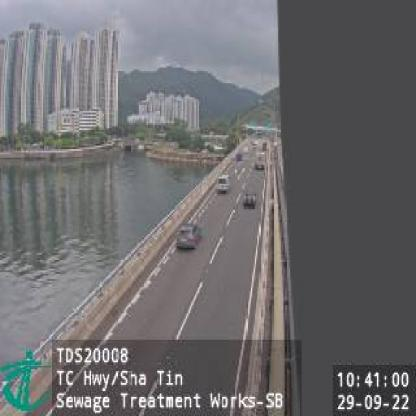Car: (176, 220, 202, 251), (240, 184, 258, 209), (216, 170, 230, 194), (254, 151, 265, 170)
